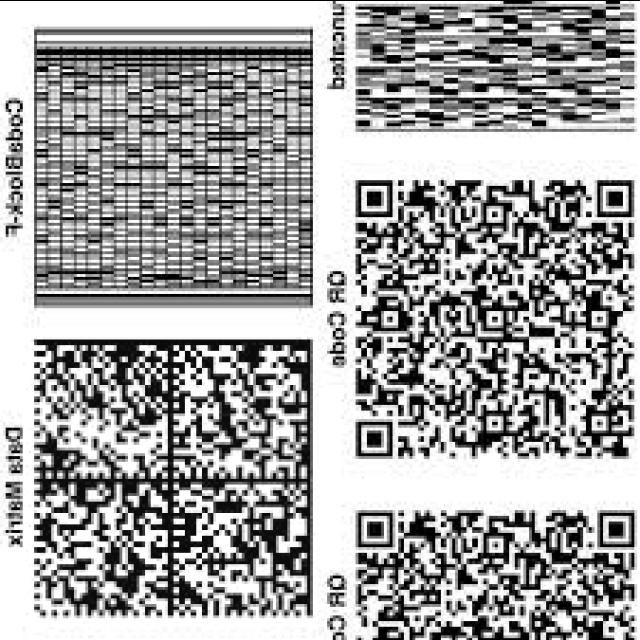DataMatrix: (22, 327, 318, 626)
